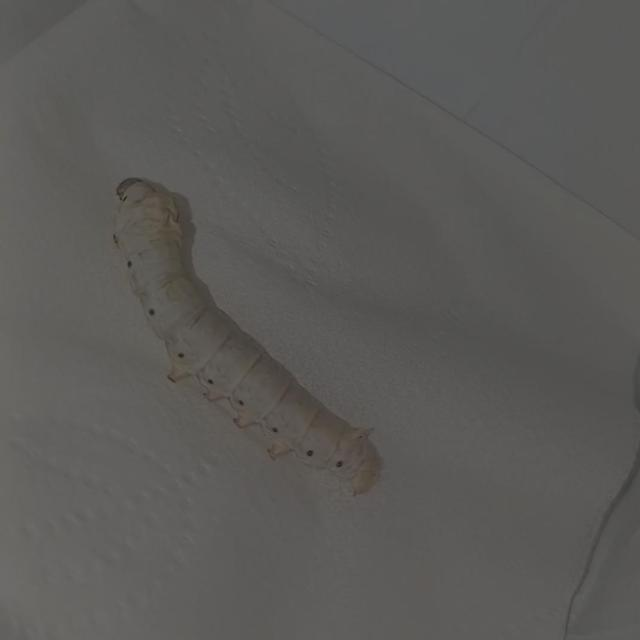Healthy: (90, 150, 419, 532)
